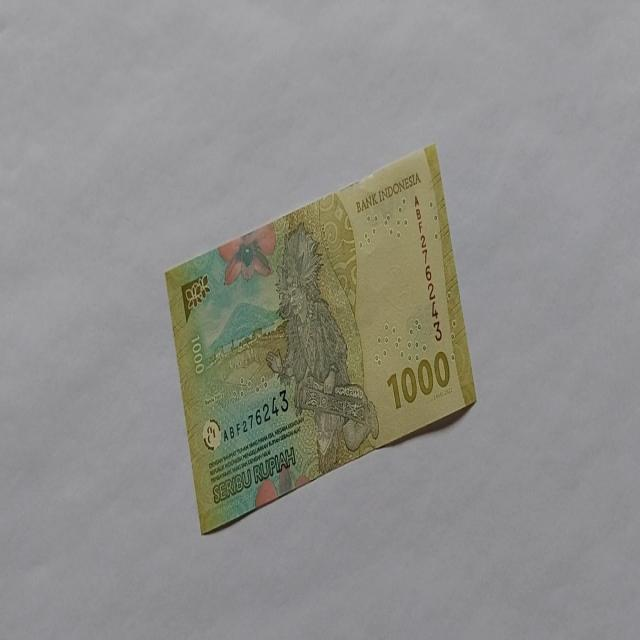seribu rupiah kertas: (164, 142, 477, 535)
